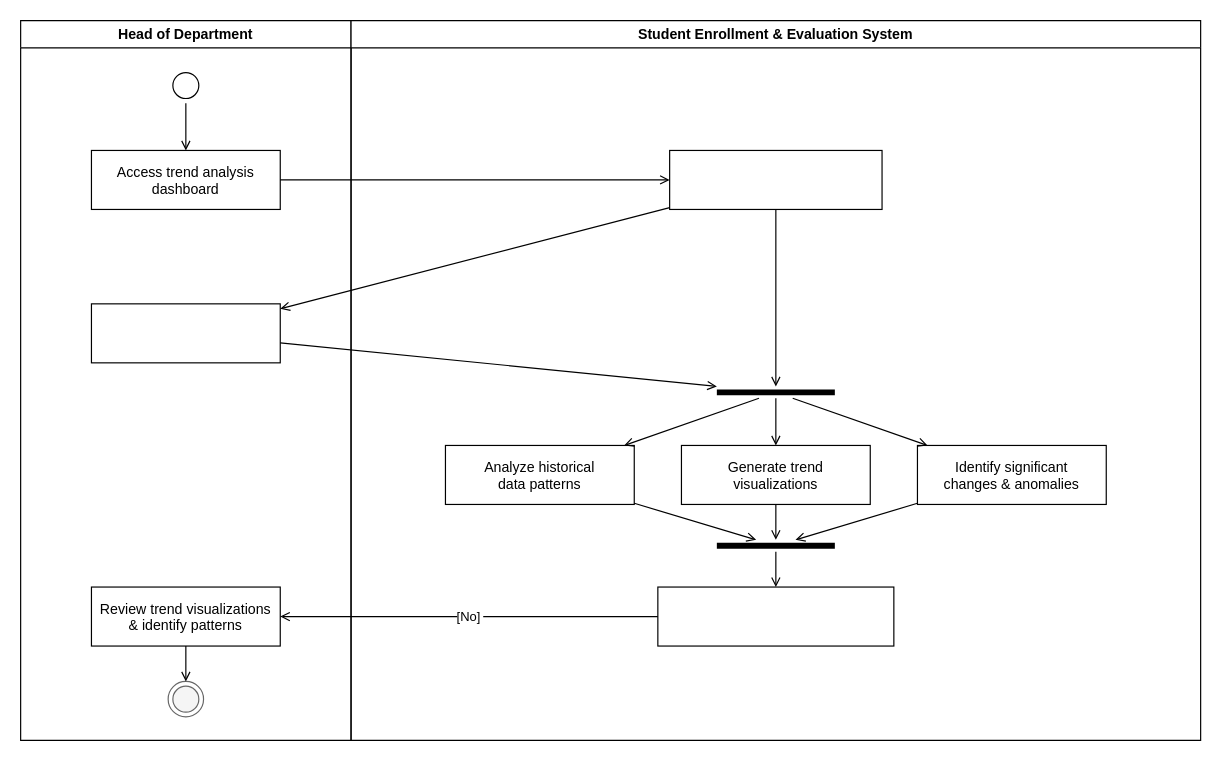
Some shapes in this 1221 by 761 pixel diagram are drawn without their labels. The shapes that lost their labels are listed below. From the top down, each one's centre as x and y in pixels, then its label:
At point (775, 179): "Display available metrics & historical data ranges".
At point (185, 333): "Select metrics & time periods for analysis".
At point (775, 616): "Render trends and risks".
